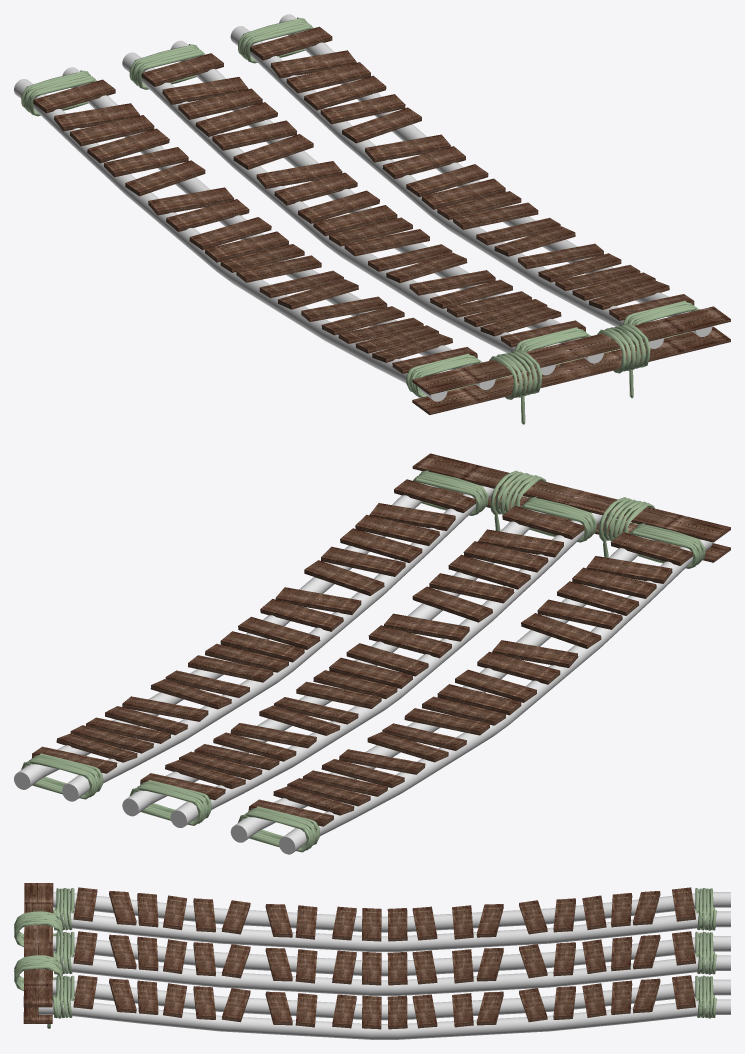
The model's file is 3_bridge_straight_nobase.fbx.
3 renders of one model, top to bottom at view 1: azimuth 30°, elevation 25°; view 2: azimuth 150°, elevation 25°; view 3: azimuth 270°, elevation 25°, orthographic. The views are drawn at different scales.
Visible parts, largest first — view 1: 3_straight_LaL, 3_straight_LaR, 3_straight_LaM, 3_straight_verschlag, 3_straight_ropevertical, 3_straight_LaL_ropes, 3_straight_LaR_ropes, 3_straight_LaM_ropes; view 2: 3_straight_LaM, 3_straight_LaR, 3_straight_LaL, 3_straight_verschlag, 3_straight_ropevertical, 3_straight_LaR_ropes, 3_straight_LaM_ropes, 3_straight_LaL_ropes; view 3: 3_straight_LaR, 3_straight_LaL, 3_straight_LaM, 3_straight_verschlag, 3_straight_ropevertical, 3_straight_LaR_ropes, 3_straight_LaL_ropes, 3_straight_LaM_ropes.
Boxes of the visible parts, x1,y1,x2,y2 form: 3_straight_LaL: [14, 67, 495, 401]; 3_straight_LaR: [230, 14, 712, 348]; 3_straight_LaM: [122, 40, 603, 375]; 3_straight_verschlag: [412, 306, 730, 414]; 3_straight_ropevertical: [489, 323, 650, 424]; 3_straight_LaL_ropes: [21, 70, 482, 397]; 3_straight_LaR_ropes: [238, 17, 700, 344]; 3_straight_LaM_ropes: [129, 44, 591, 370]; 3_straight_LaM: [122, 505, 602, 827]; 3_straight_LaR: [14, 479, 493, 801]; 3_straight_LaL: [230, 532, 712, 854]; 3_straight_verschlag: [412, 453, 730, 562]; 3_straight_ropevertical: [490, 470, 654, 557]; 3_straight_LaR_ropes: [21, 470, 488, 799]; 3_straight_LaM_ropes: [129, 496, 596, 825]; 3_straight_LaL_ropes: [238, 523, 705, 852]; 3_straight_LaR: [38, 975, 730, 1039]; 3_straight_LaL: [53, 887, 730, 951]; 3_straight_LaM: [53, 931, 730, 995]; 3_straight_verschlag: [23, 883, 53, 1023]; 3_straight_ropevertical: [14, 911, 62, 1028]; 3_straight_LaR_ropes: [52, 975, 716, 1018]; 3_straight_LaL_ropes: [53, 888, 716, 930]; 3_straight_LaM_ropes: [53, 931, 716, 974].
Size of the model in its own units: 50.01 by 12.03 by 124.
Materials: 3 (1 with a texture image).
